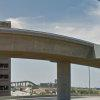Bridge: (4, 18, 96, 74)
